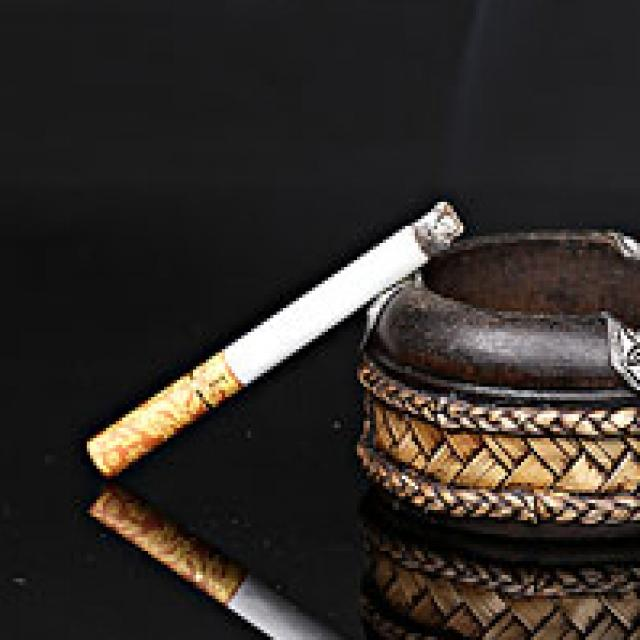smoking: (86, 199, 462, 476), (87, 482, 354, 640)
